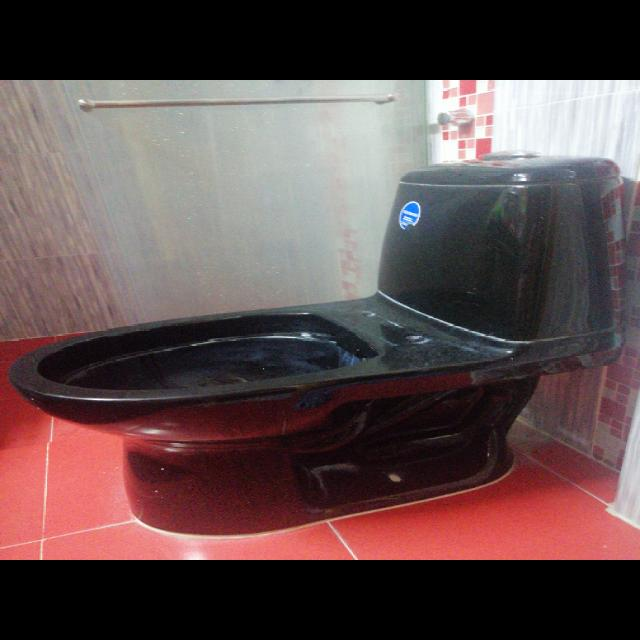toilet: (6, 148, 640, 540)
